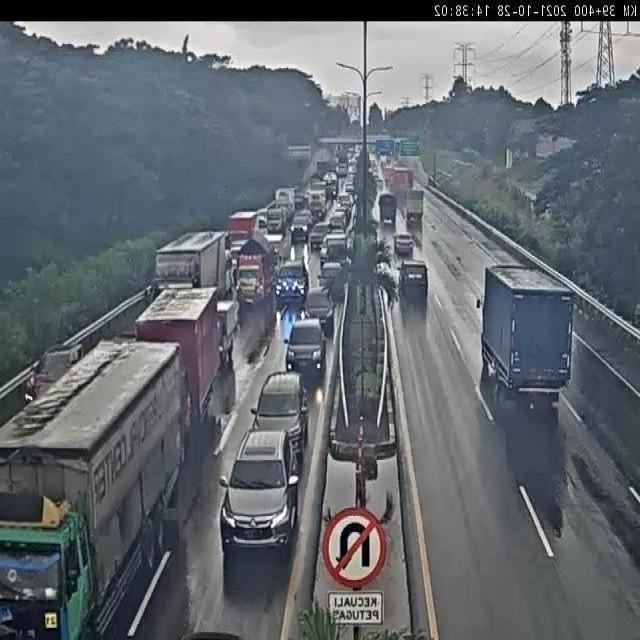Car: (217, 423, 302, 550), (250, 371, 311, 461), (21, 340, 87, 405), (284, 315, 328, 385), (274, 256, 308, 306), (215, 299, 238, 371), (304, 286, 336, 336), (399, 258, 429, 298), (317, 261, 343, 298), (321, 232, 348, 266), (291, 210, 313, 243), (309, 222, 329, 250), (394, 232, 414, 258), (328, 212, 346, 233), (294, 190, 308, 212), (336, 160, 348, 178)
Truck: (0, 332, 186, 640), (474, 262, 579, 399), (130, 279, 220, 426), (142, 228, 230, 306), (237, 229, 276, 308), (226, 209, 256, 245), (264, 230, 287, 270), (404, 187, 426, 224), (378, 190, 398, 224), (266, 205, 287, 235), (274, 186, 295, 215), (393, 165, 410, 193), (381, 162, 395, 186)
